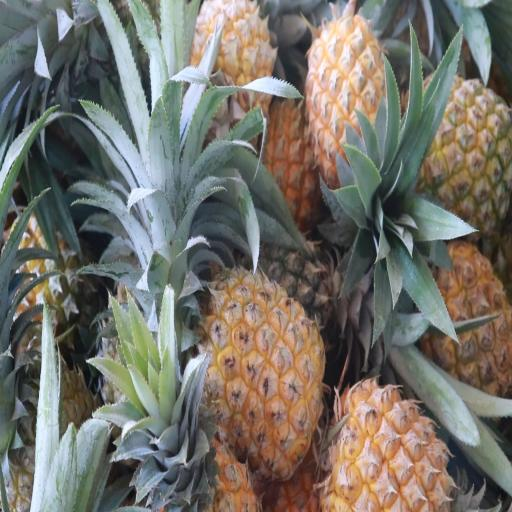Pineapple - v8 v1: (202, 262, 323, 477), (322, 379, 457, 512), (306, 18, 396, 190), (419, 82, 512, 242), (419, 240, 512, 395), (154, 387, 260, 512), (192, 2, 274, 125)
